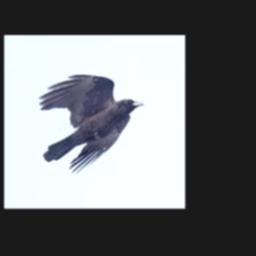Crow: (39, 73, 144, 173)
